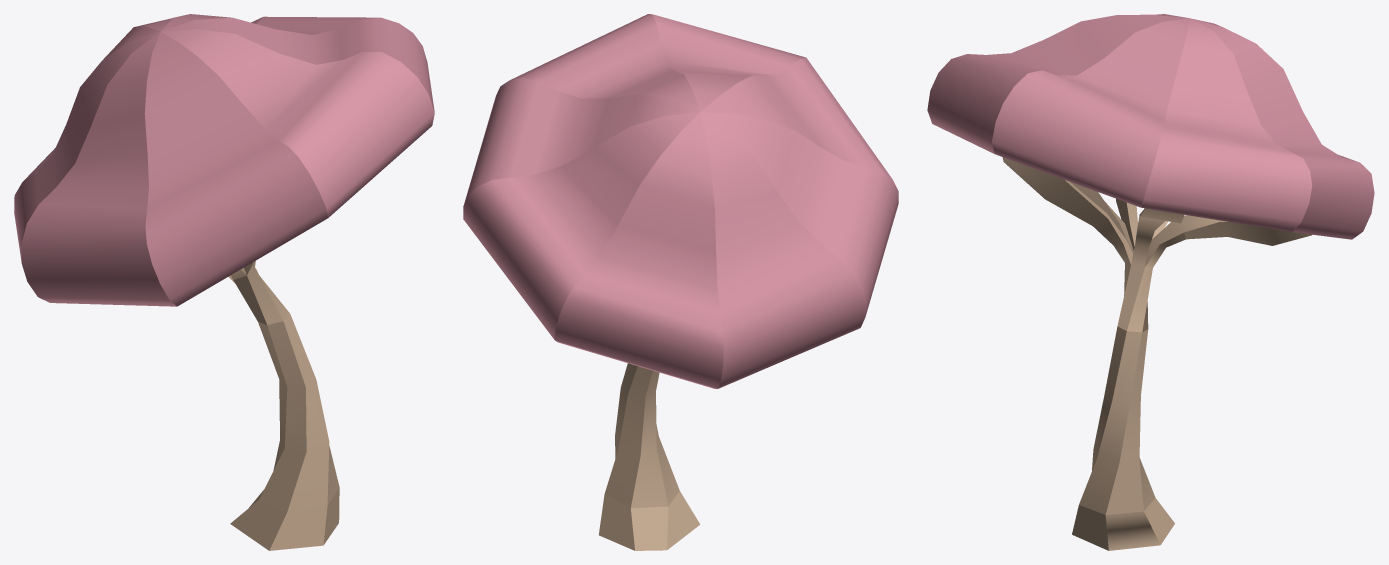
The model's file is Trees_Fairy_01.fbx.
3 views of the same model, side by side, from view 1: azimuth 30°, elevation 25°; view 2: azimuth 150°, elevation 25°; view 3: azimuth 270°, elevation 25° (orthographic). The views are drawn at different scales.
Parts seen in each view (by area): view 1: Fairy1_Namu5; view 2: Fairy1_Namu5; view 3: Fairy1_Namu5.
Boxes of the visible parts, left/top/right/bottom form: Fairy1_Namu5: left=14, top=14, right=434, bottom=550; Fairy1_Namu5: left=463, top=14, right=898, bottom=550; Fairy1_Namu5: left=927, top=14, right=1374, bottom=550.
Size of the model in its own units: 993 by 1192 by 1010.
